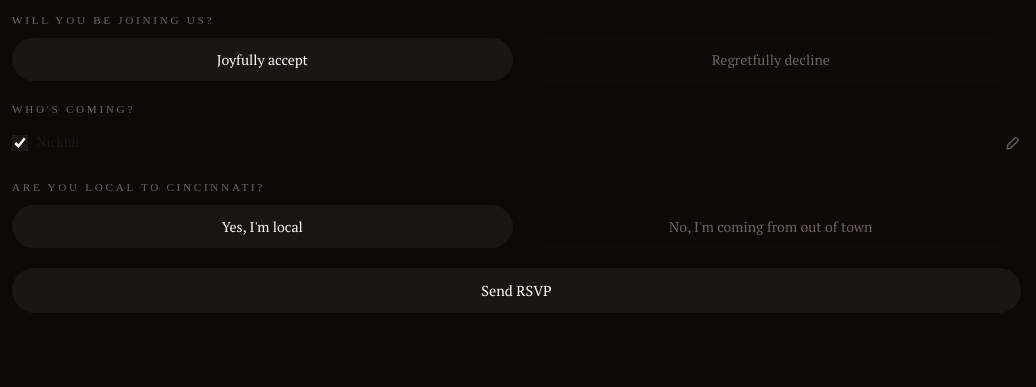
it: RsvpForm submission method › asks whether guests are local without asking about a hotel
Expected: the text "Are you local to Cincinnati?" is shown, [12,179,265,196]
Click the button "No, I'm coming from out of town" at (771, 227), box [520,206,1021,248]
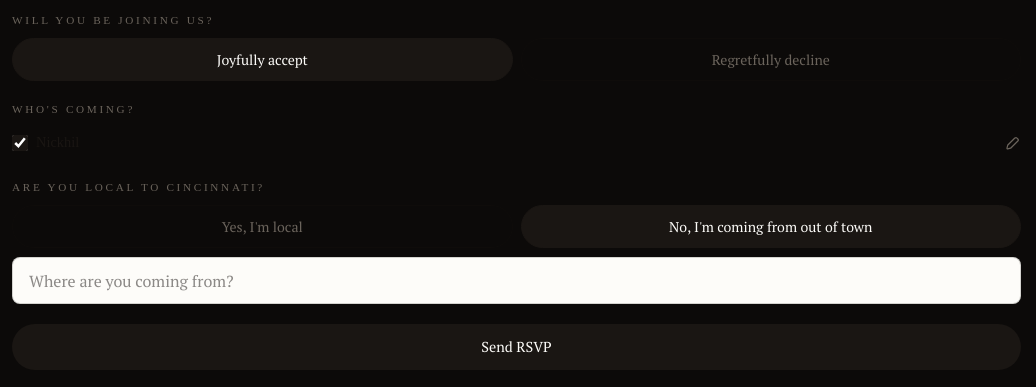
Now the field with placeholder "Where are you coming from?" is shown, box [12,257,1021,304]
